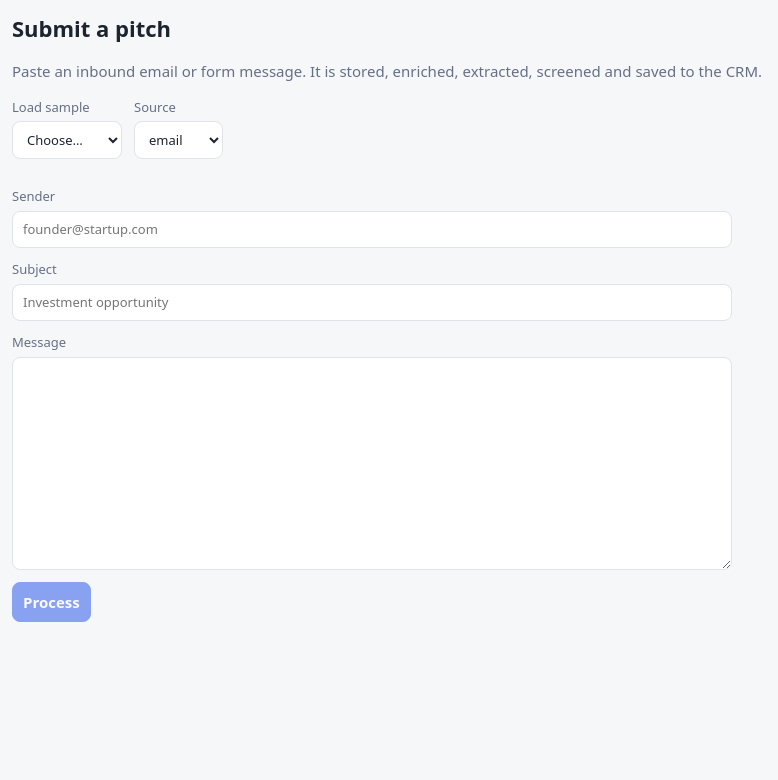
it: SubmitPage › tells the user when the pitch was already processed
The width and height of the screenshot is (778, 780).
In the text box labelled "Message": [372, 463] box [12,356,732,570], type "We are ABC AI"
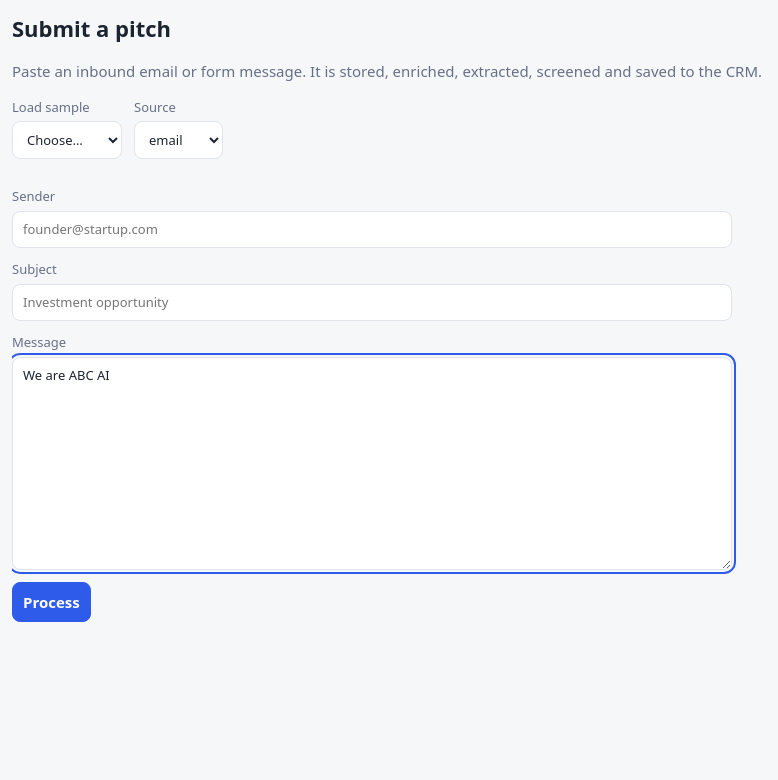
Click the button "Process": [51, 602] box [12,582,91,622]
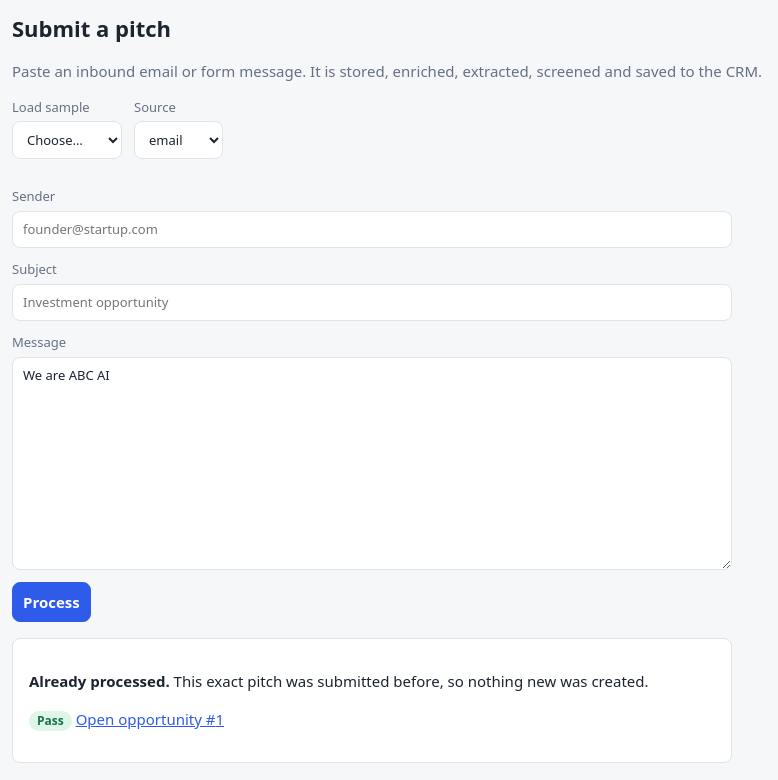
Result: the text "Already processed." is shown at [29,671,170,691]
